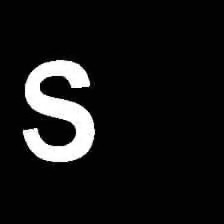LTR_S: (14, 56, 105, 168)
